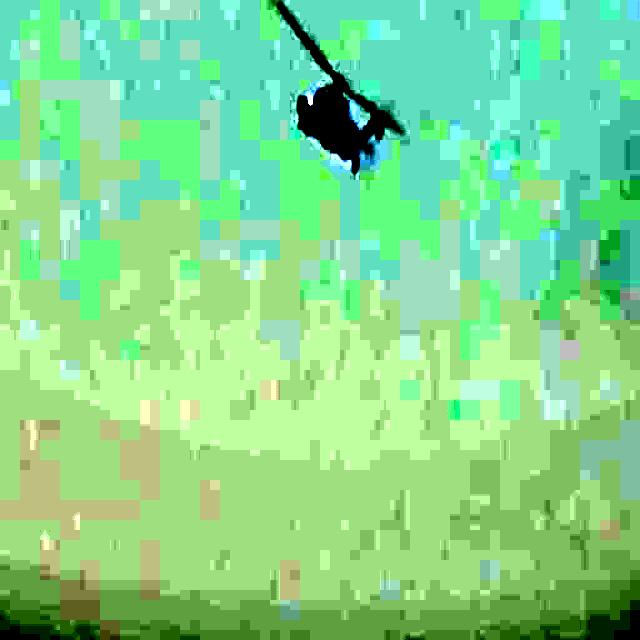drone: (275, 0, 399, 171)
